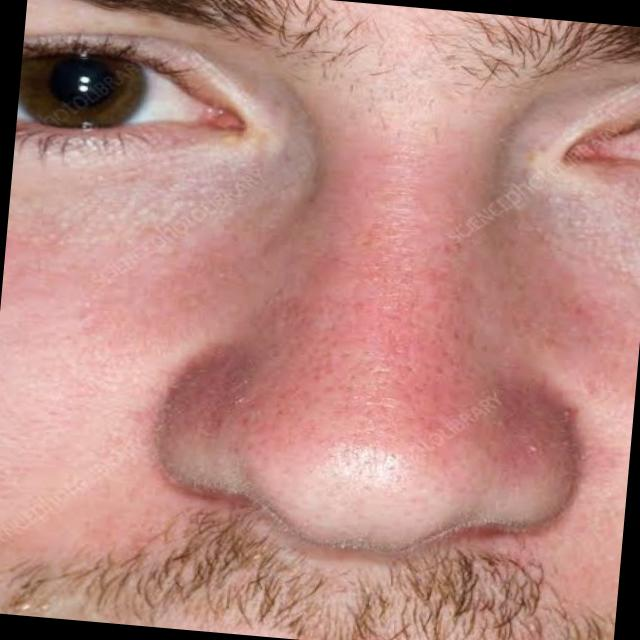redness: (129, 140, 578, 488)
